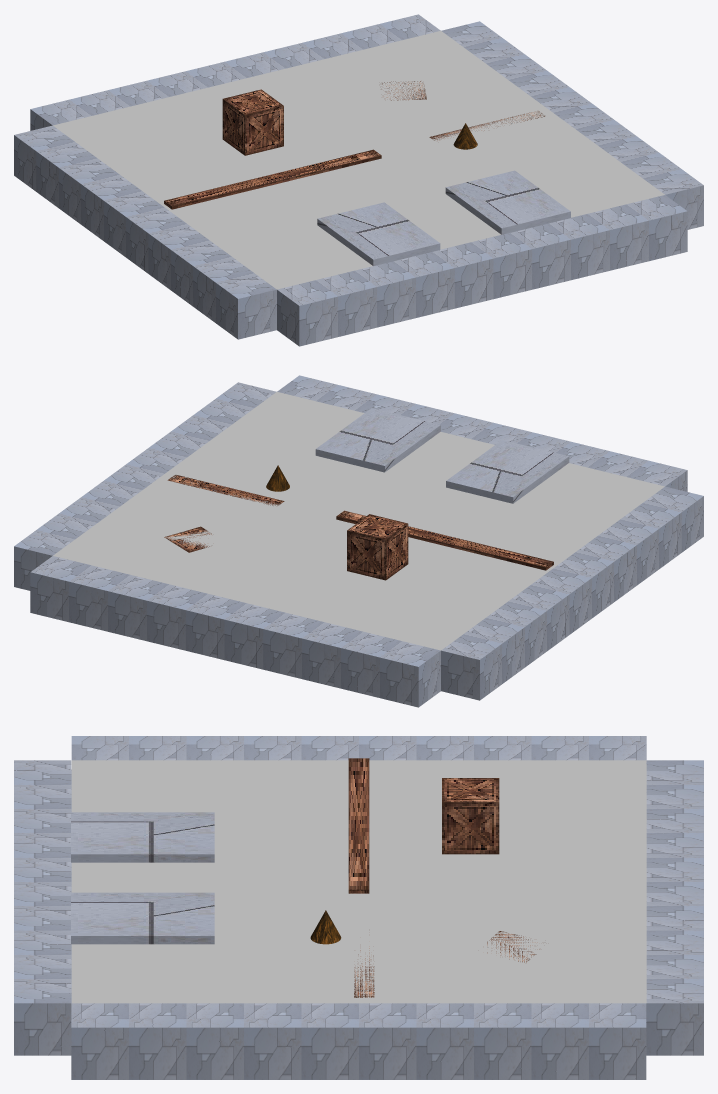
3 renders of one model, top to bottom at view 1: azimuth 30°, elevation 25°; view 2: azimuth 150°, elevation 25°; view 3: azimuth 270°, elevation 25°, orthographic. The views are drawn at different scales.
Parts seen in each view (by area): view 1: Ceiling, Wall.002, Wall.001, Wall.003, Wall.000, Cube.001, Cube, Box.003, Box.000; view 2: Ceiling, Wall.000, Wall.001, Wall.003, Wall.002, Cube.001, Cube, Box.003, Box.000, Box.001, Box.005; view 3: Ceiling, Wall.003, Wall.000, Wall.002, Wall.001, Cube.001, Cube, Box.003, Box.000, Cone.
Part boxes in pixels (x1,y1,x2,y2): Ceiling: (53,31,664,289); Wall.002: (277,195,687,346); Wall.001: (14,125,276,339); Wall.003: (441,21,703,229); Wall.000: (30,14,440,130); Cube.001: (445,170,570,234); Cube: (317,202,440,266); Box.003: (222,89,283,155); Box.000: (164,149,381,209); Ceiling: (53,392,664,650); Wall.000: (30,556,440,707); Wall.001: (441,486,703,700); Wall.003: (14,382,276,590); Wall.002: (277,375,687,491); Cube.001: (315,408,440,472); Cube: (446,440,569,503); Box.003: (347,514,408,580); Box.000: (336,510,553,570); Box.001: (167,475,284,505); Box.005: (164,526,211,552); Ceiling: (71,760,646,1003); Wall.003: (71,1003,646,1079); Wall.000: (646,760,703,1055); Wall.002: (14,760,71,1055); Wall.001: (71,736,646,760); Cube.001: (71,892,214,944); Cube: (71,812,214,862); Box.003: (442,778,499,854); Box.000: (348,758,369,893); Cone: (310,910,341,944).
Bounding box in the file's own units: 24 × 4.14 × 24.
